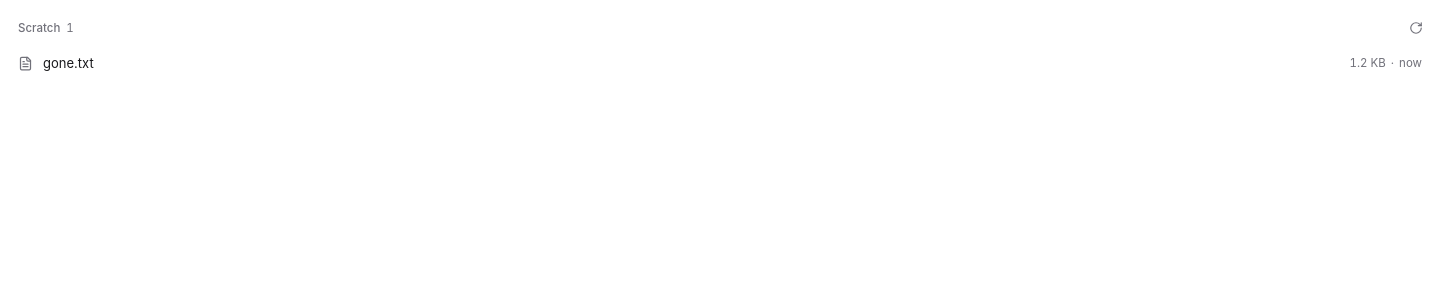
Files page › says so when the open file left the folder
Click the button "gone.txt 1.2 KB · now": click(68, 63) x1=8 y1=46 x2=1432 y2=80
Wait 400 ms
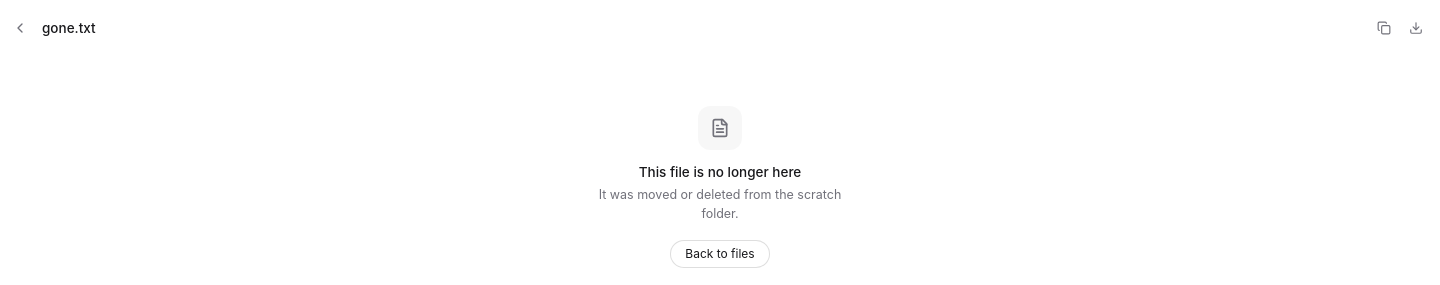
Now the text "This file is no longer here" is shown, box x1=639 y1=162 x2=801 y2=182
